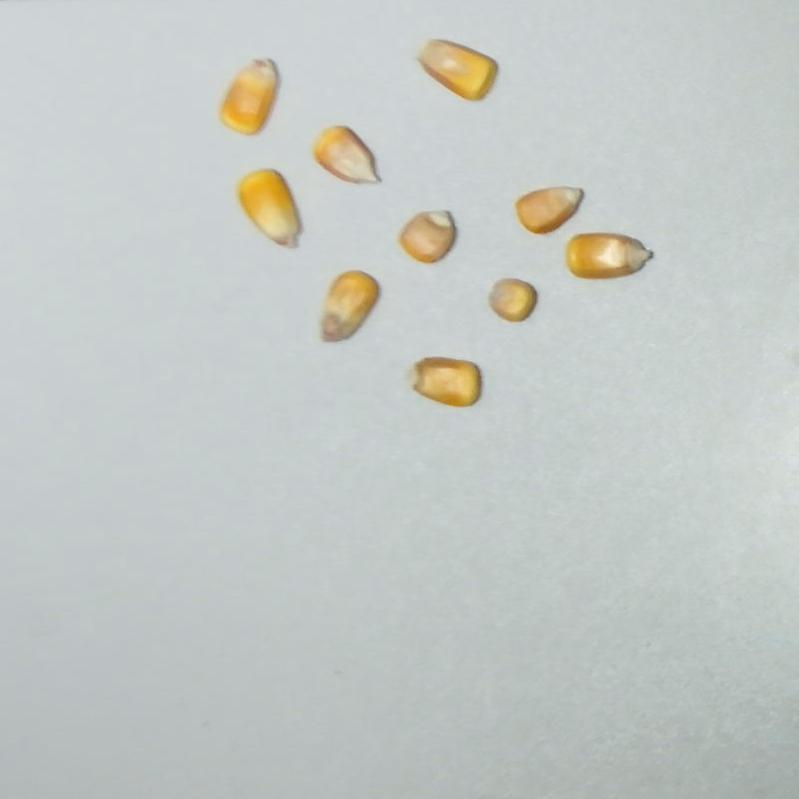corn: (301, 259, 388, 353), (406, 27, 502, 108), (231, 161, 310, 259), (304, 116, 391, 204), (214, 49, 288, 141), (392, 196, 470, 274), (400, 351, 485, 410), (512, 179, 591, 240), (564, 230, 654, 283), (483, 270, 542, 328)
